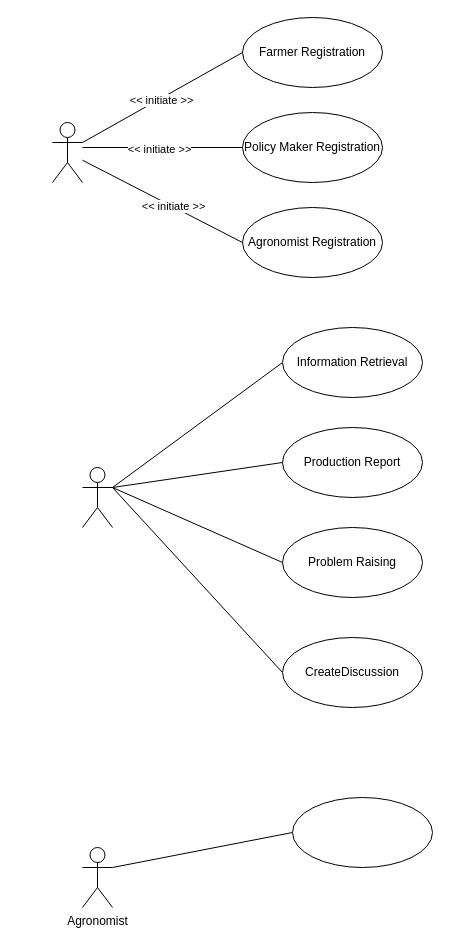
This 450x946 diagram has some shape labels left out. The shapes that lost their labels are listed below. From the top down, each one's centre as x and y in pixels, then its label:
At point 67,152: "Unregistrated User".
At point 97,497: "Farmer".
At point 362,832: "Manage Daily Plan".
